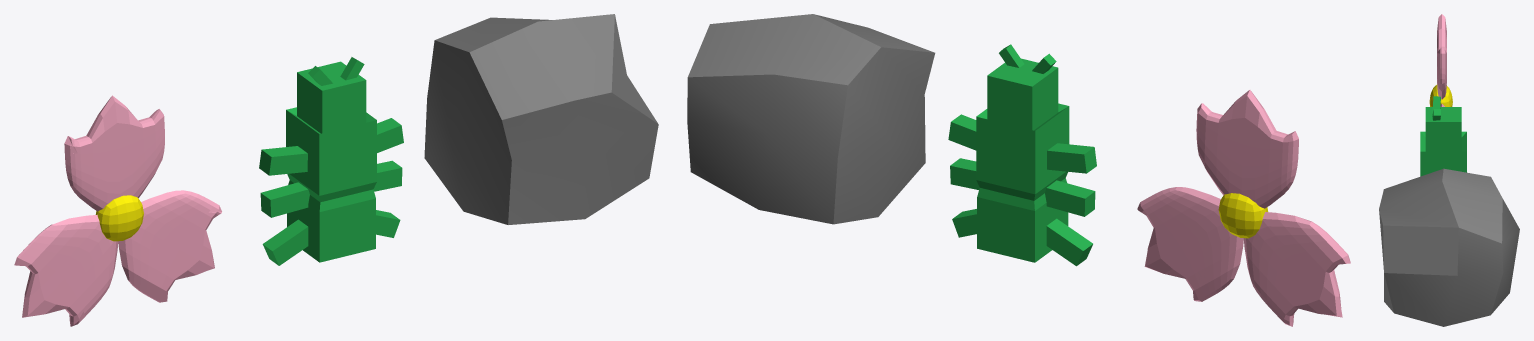
The model's file is estela_3.fbx.
The picture shows the model from 3 angles, left to right: view 1: azimuth 30°, elevation 25°; view 2: azimuth 150°, elevation 25°; view 3: azimuth 270°, elevation 25°; orthographic projection. The views are drawn at different scales.
Parts seen in each view (by area): view 1: Cube, Cube.003, Cube.004; view 2: Cube, Cube.003, Cube.004; view 3: Cube, Cube.004, Cube.003.
Part boxes in pixels (x1,y1,x2,y2): Cube: [424, 14, 658, 224]; Cube.003: [14, 95, 221, 326]; Cube.004: [259, 57, 403, 265]; Cube: [687, 14, 935, 224]; Cube.003: [1137, 90, 1350, 326]; Cube.004: [948, 44, 1096, 266]; Cube: [1379, 168, 1519, 326]; Cube.004: [1420, 96, 1466, 176]; Cube.003: [1429, 14, 1452, 106].
Bounding box in the file's own units: 597 × 166 × 203.
3 materials, 3 textured.
